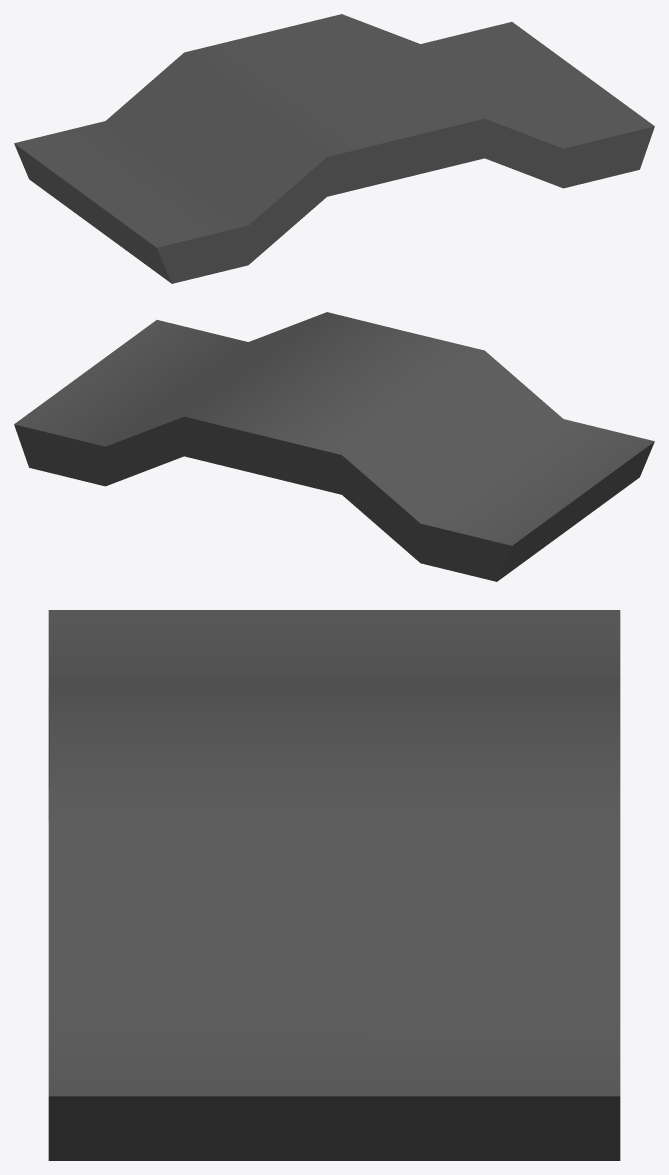
Rendered from Itr_Obj_Grandfatherclock1_Top_04.FBX.
3 views of the same model, one above another, from view 1: azimuth 30°, elevation 25°; view 2: azimuth 150°, elevation 25°; view 3: azimuth 270°, elevation 25° (orthographic). The views are drawn at different scales.
Parts seen in each view (by area): view 1: Itr_Obj_Grandfatherclock1_Top_04; view 2: Itr_Obj_Grandfatherclock1_Top_04; view 3: Itr_Obj_Grandfatherclock1_Top_04.
Part boxes in pixels (x1,y1,x2,y2): Itr_Obj_Grandfatherclock1_Top_04: [14, 14, 654, 283]; Itr_Obj_Grandfatherclock1_Top_04: [14, 312, 654, 581]; Itr_Obj_Grandfatherclock1_Top_04: [48, 610, 620, 1160].
Bounding box in the file's own units: 22.92 × 3.92 × 11.39.
